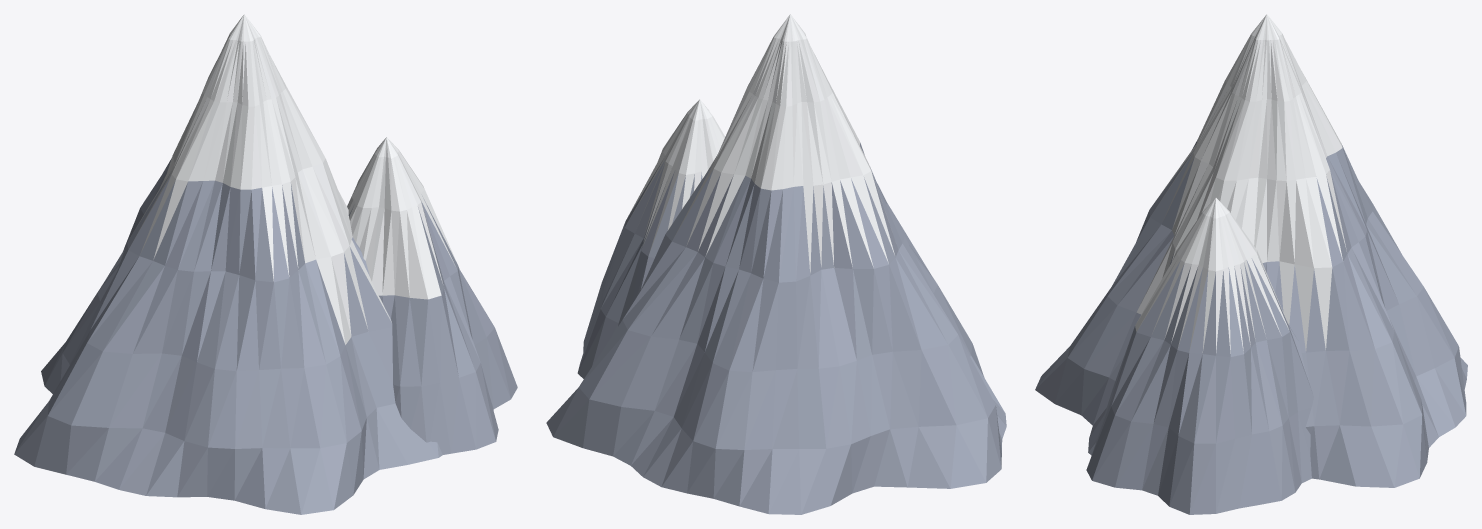
Rendered from SnowballSummitMountain.glb.
The picture shows the model from 3 angles, left to right: view 1: azimuth 30°, elevation 25°; view 2: azimuth 150°, elevation 25°; view 3: azimuth 270°, elevation 25°; orthographic projection. The views are drawn at different scales.
Parts seen in each view (by area): view 1: Rock, Snow; view 2: Rock, Snow; view 3: Rock, Snow.
Part boxes in pixels (x1,y1,x2,y2): Rock: [14, 158, 517, 514]; Snow: [130, 14, 456, 344]; Rock: [546, 143, 1006, 514]; Snow: [627, 14, 894, 272]; Rock: [1035, 140, 1467, 514]; Snow: [1135, 14, 1346, 353].
Bounding box in the file's own units: 177 × 152 × 153.
